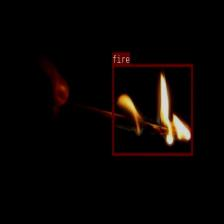fire: (111, 63, 193, 155)
